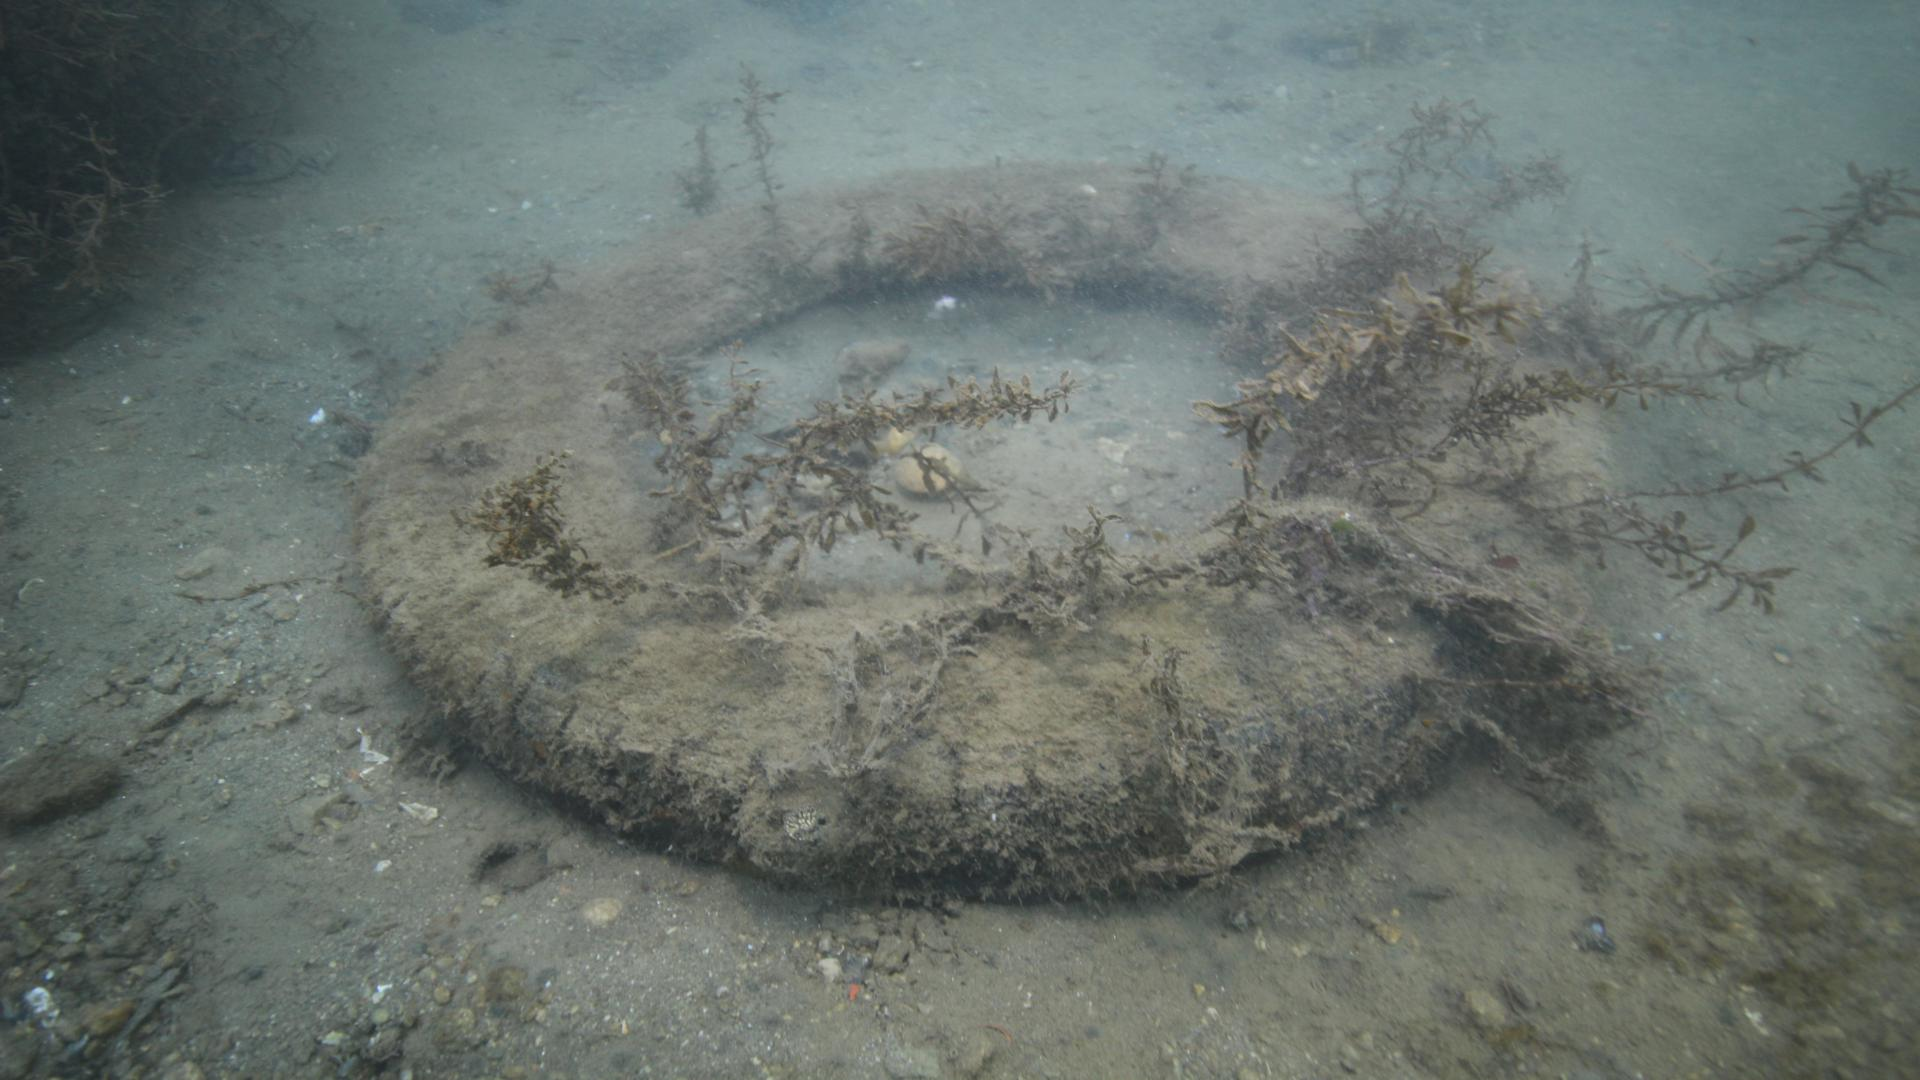tire: (347, 157, 1614, 889)
